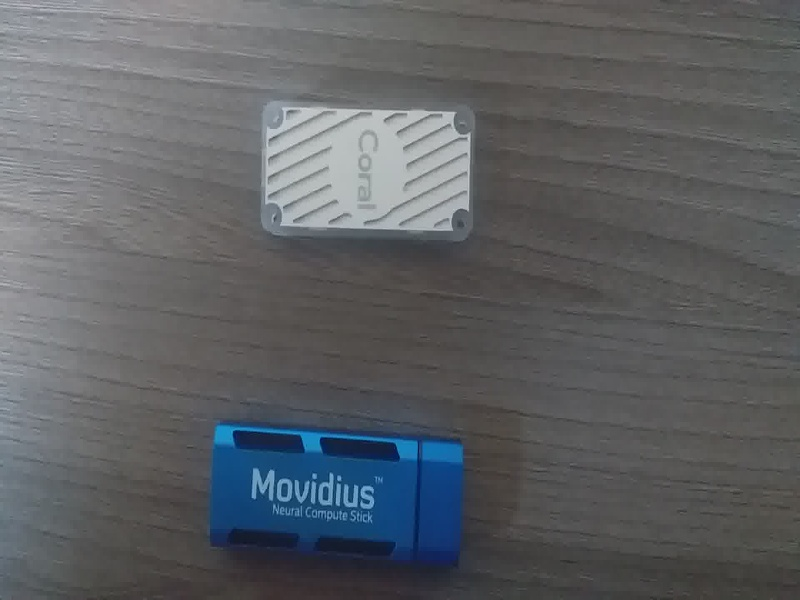coral: (257, 93, 484, 255)
movidius: (204, 417, 473, 578)
